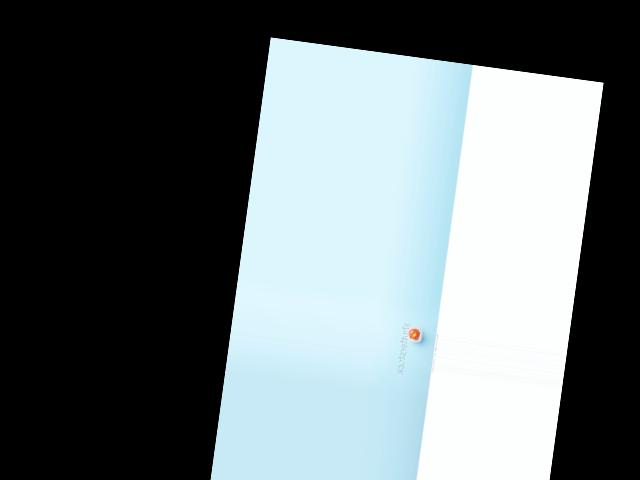tomato: (408, 328, 420, 340)
